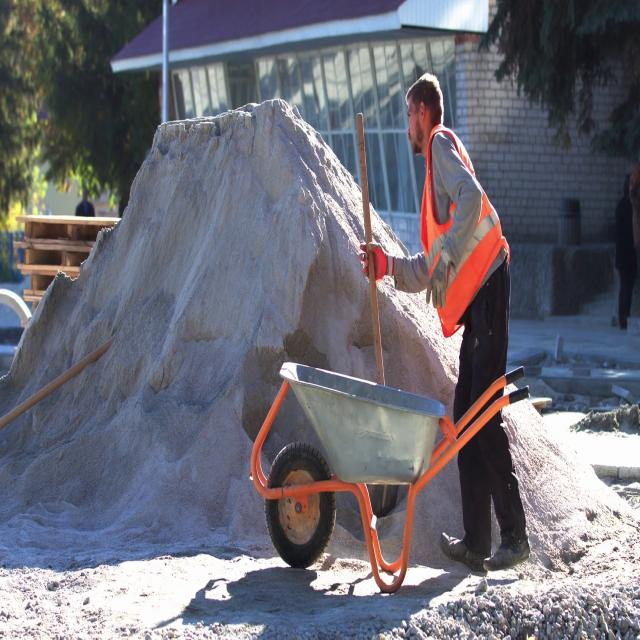gloved: (426, 249, 450, 309)
